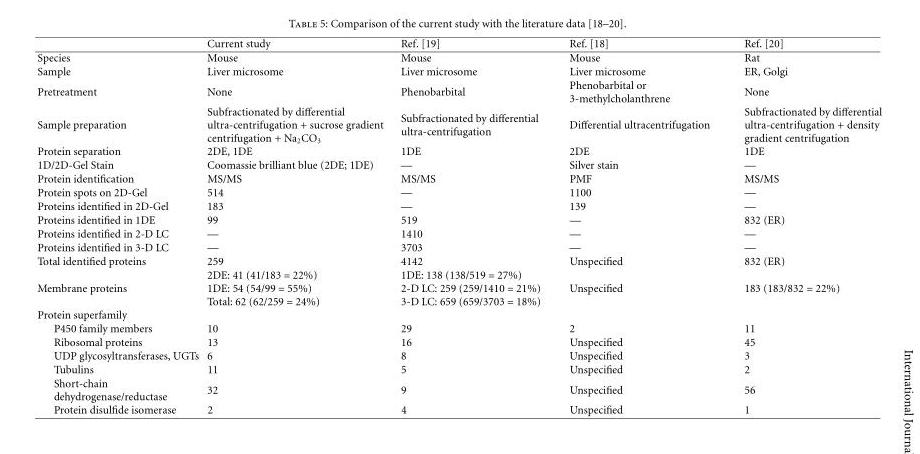table: (37, 37, 882, 415)
table column: (203, 37, 392, 415), (555, 37, 727, 415), (37, 37, 203, 415), (392, 37, 555, 415), (727, 37, 882, 415)
table column header: (37, 37, 882, 50)
table projected row header: (37, 307, 882, 321)
table row: (37, 104, 882, 144), (37, 267, 882, 307), (37, 77, 882, 104), (37, 376, 882, 402), (37, 50, 882, 64), (37, 157, 882, 171), (37, 171, 882, 185), (37, 198, 882, 212), (37, 212, 882, 226), (37, 226, 882, 240), (37, 253, 882, 267), (37, 307, 882, 321), (37, 334, 882, 348), (37, 348, 882, 362), (37, 362, 882, 376), (37, 37, 882, 50), (37, 64, 882, 77), (37, 144, 882, 157), (37, 185, 882, 198), (37, 240, 882, 253), (37, 321, 882, 334), (37, 402, 882, 415)
